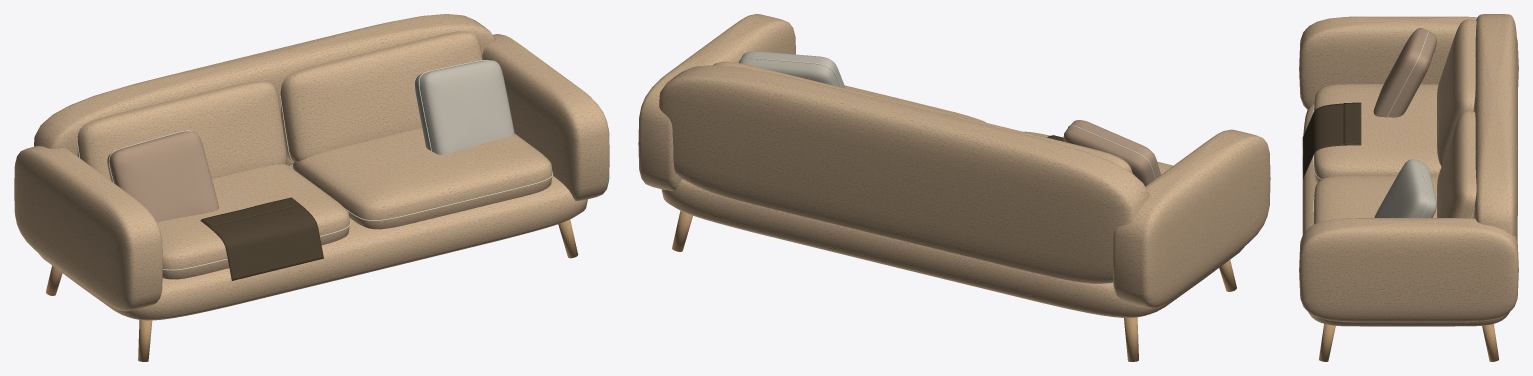
Rendered from scandinavian.sofa.gltf.
3 views of the same model, side by side, from view 1: azimuth 30°, elevation 25°; view 2: azimuth 150°, elevation 25°; view 3: azimuth 270°, elevation 25° (orthographic). The views are drawn at different scales.
Parts seen in each view (by area): view 1: scandinavian.sofa.leg; view 2: scandinavian.sofa.leg; view 3: scandinavian.sofa.leg.
Boxes of the visible parts, box(x1,y1,x2,y2) form: scandinavian.sofa.leg: box(14, 14, 609, 361); scandinavian.sofa.leg: box(638, 14, 1270, 361); scandinavian.sofa.leg: box(1299, 14, 1518, 361).
Size of the model in its own units: 2.22 by 0.8031 by 0.94.
6 materials, 4 textured.
